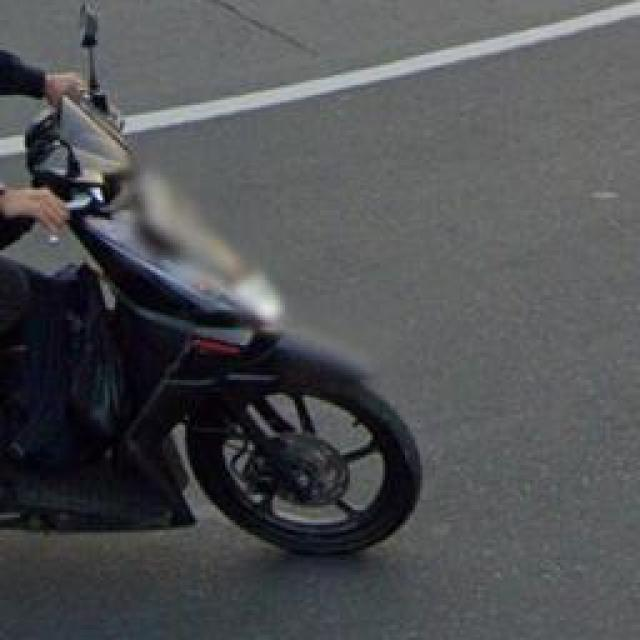motorcycle: (2, 20, 426, 558)
